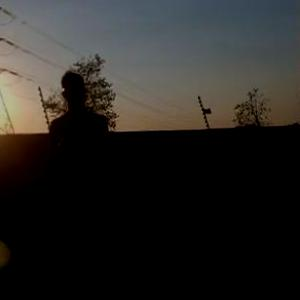follow: (46, 66, 124, 288)
